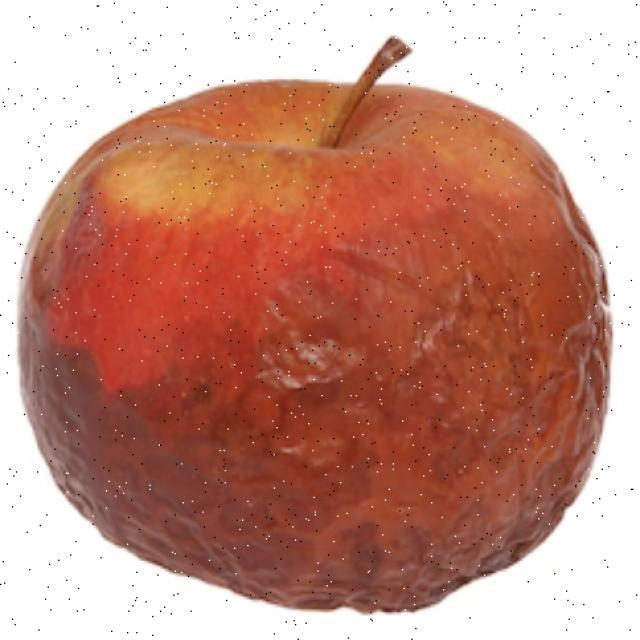Rotten: (50, 91, 603, 606)
